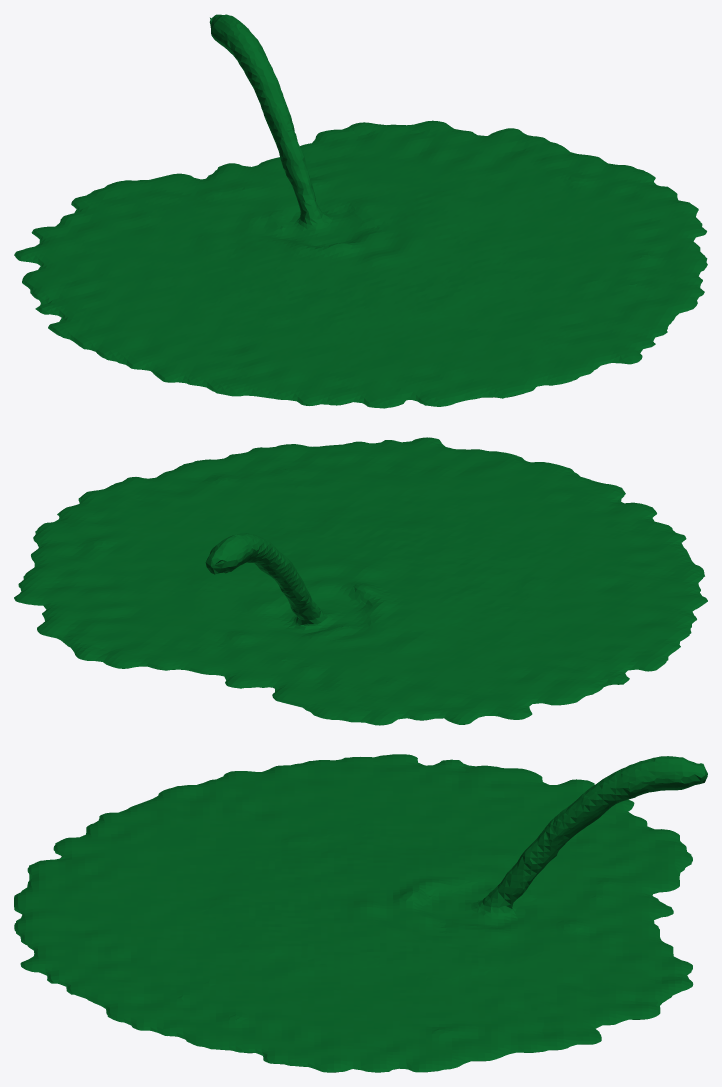
Rendered from fluid_49.fbx.
3 views of the same model, one above another, from view 1: azimuth 30°, elevation 25°; view 2: azimuth 150°, elevation 25°; view 3: azimuth 270°, elevation 25° (orthographic). The views are drawn at different scales.
Parts seen in each view (by area): view 1: Cube; view 2: Cube; view 3: Cube.
Boxes of the visible parts, x1,y1,x2,y2 form: Cube: (14,14,707,408); Cube: (14,437,707,725); Cube: (14,754,707,1072).
Size of the model in its own units: 752 by 176 by 694.
